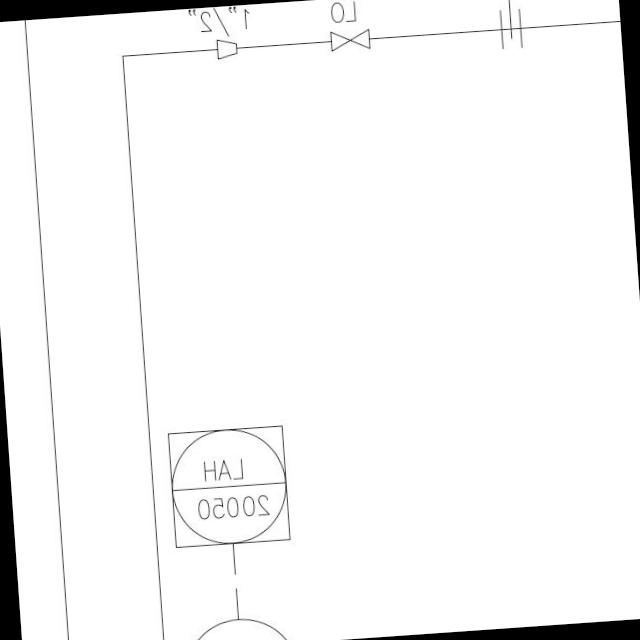GV: (323, 28, 372, 54)
SP: (210, 32, 242, 62)
